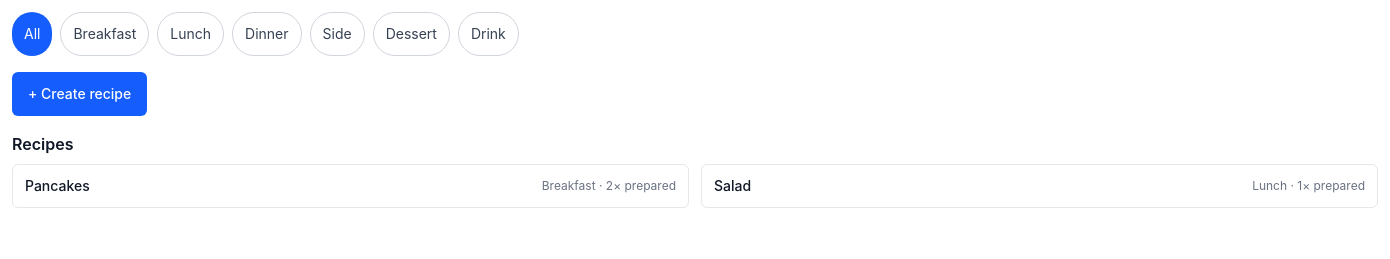
it: RecipeBox › opens cook mode for the tapped card and returns
The image size is (1390, 259).
expect the text "Pancakes" is shown: met, box [25, 176, 90, 196]
Click the button "Pancakes Breakfast · 2× prepared" at (57, 186), box [12, 164, 689, 208]
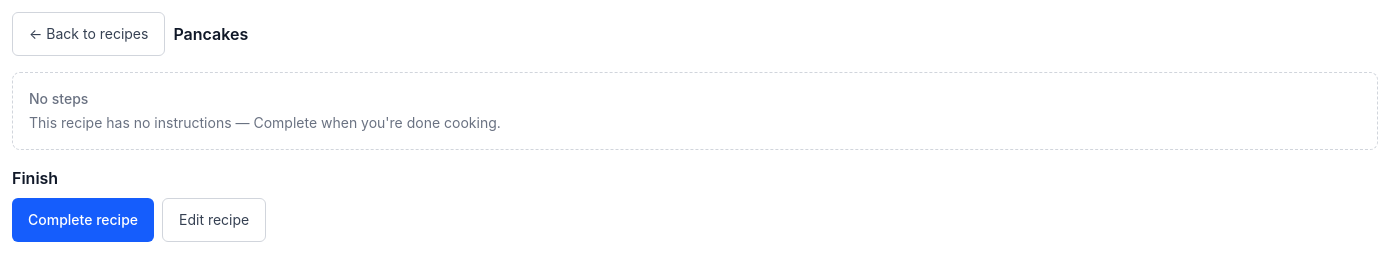
expect the element with test id "recipe-cook" is shown: met
expect the text "No steps" is shown: met, box [29, 90, 88, 107]
Click the button "← Back to recipes" at (89, 34), box [12, 12, 165, 56]
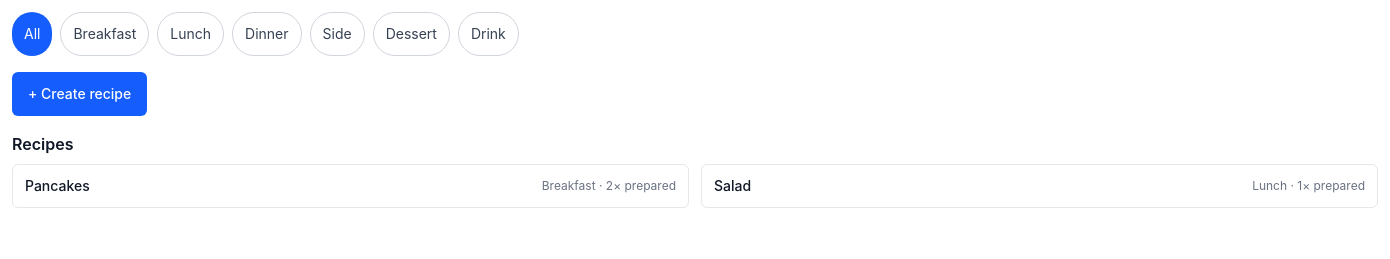
expect the text "Salad" is shown: met, box [714, 176, 751, 196]
